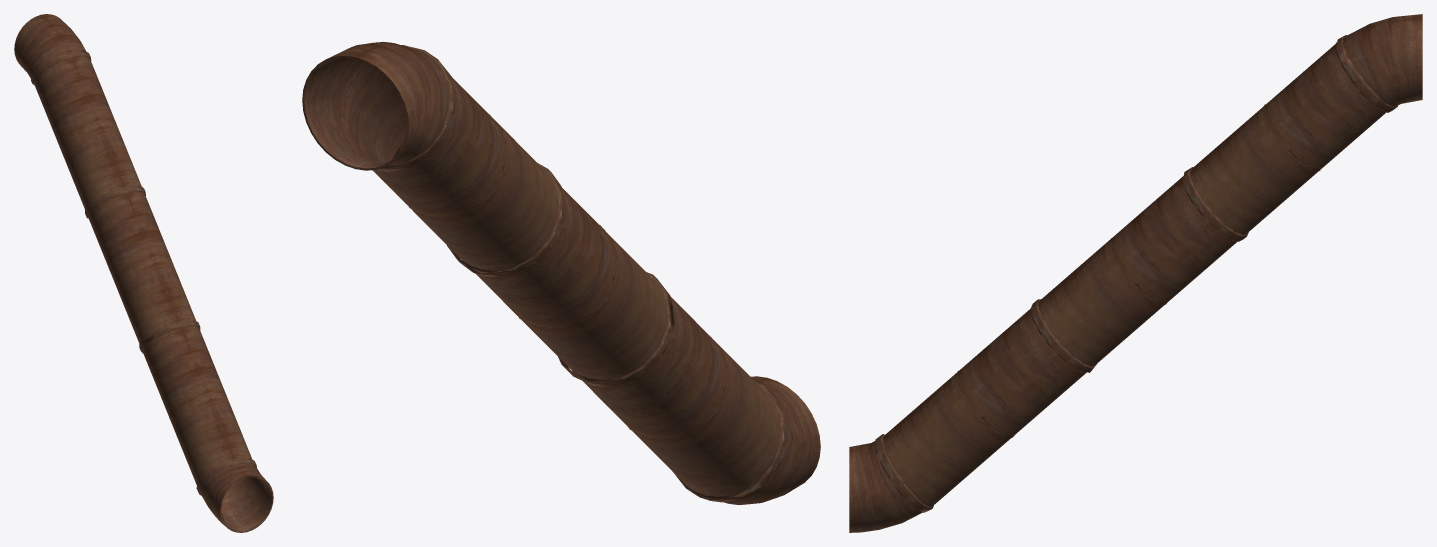
File: pipeline_300x600_up1500.glb
The picture shows the model from 3 angles, left to right: view 1: azimuth 30°, elevation 25°; view 2: azimuth 150°, elevation 25°; view 3: azimuth 270°, elevation 25°; orthographic projection. The views are drawn at different scales.
Visible parts, largest first — view 1: pipeline_300x600_up1500_LOD0; view 2: pipeline_300x600_up1500_LOD0; view 3: pipeline_300x600_up1500_LOD0.
Boxes of the visible parts, <box> form: pipeline_300x600_up1500_LOD0: <box>14,14,273,532</box>; pipeline_300x600_up1500_LOD0: <box>302,42,820,504</box>; pipeline_300x600_up1500_LOD0: <box>849,14,1422,532</box>.
Bounding box in the file's own units: 2.82 × 17.7 × 18.
2 materials, 2 textured.
